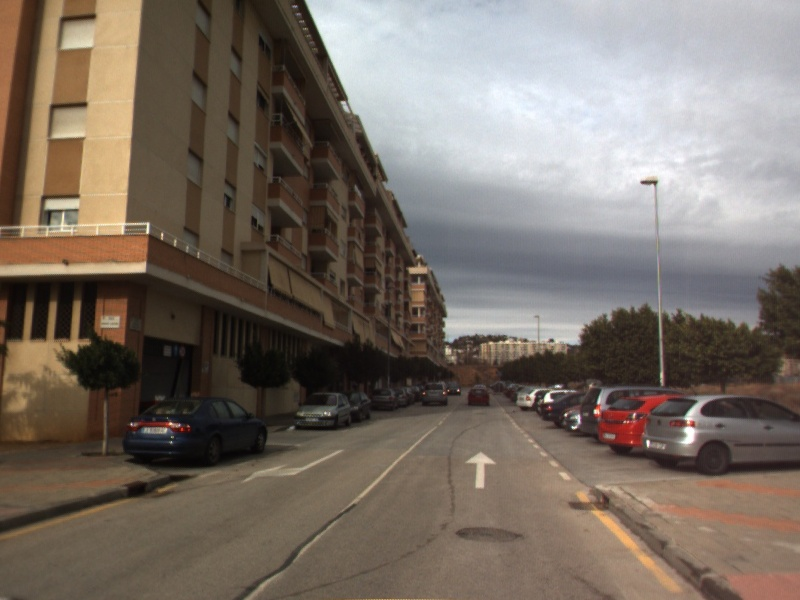STRAIGHT: (463, 449, 498, 491)
